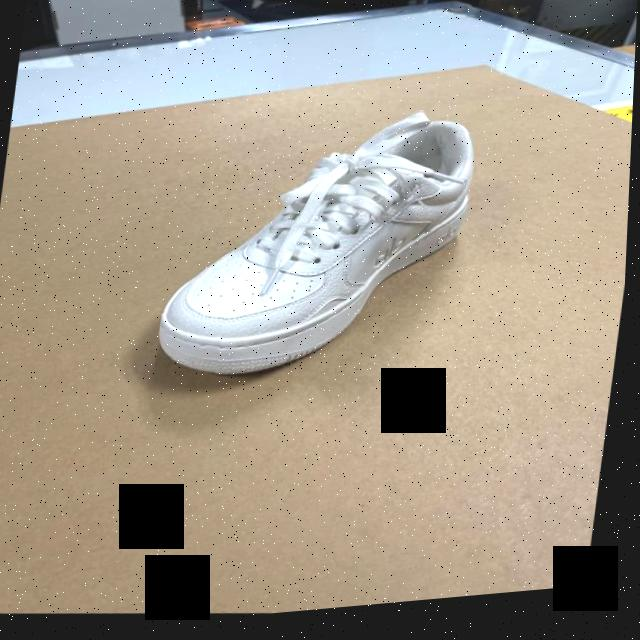shoe: (155, 92, 486, 405)
